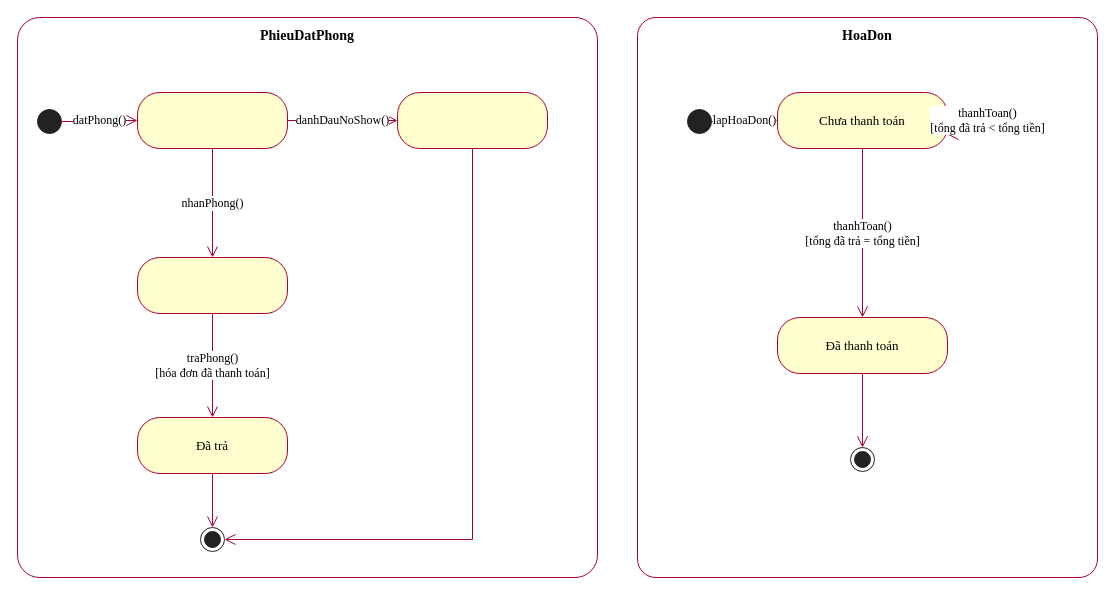
Some shapes in this 1115 by 595 pixel diagram are drawn without their labels. Here are the shapes that lost their labels. From the top down, the centre of each, then its label:
point (212, 120): Đã đặt
point (472, 120): No-show
point (212, 285): Đang ở
